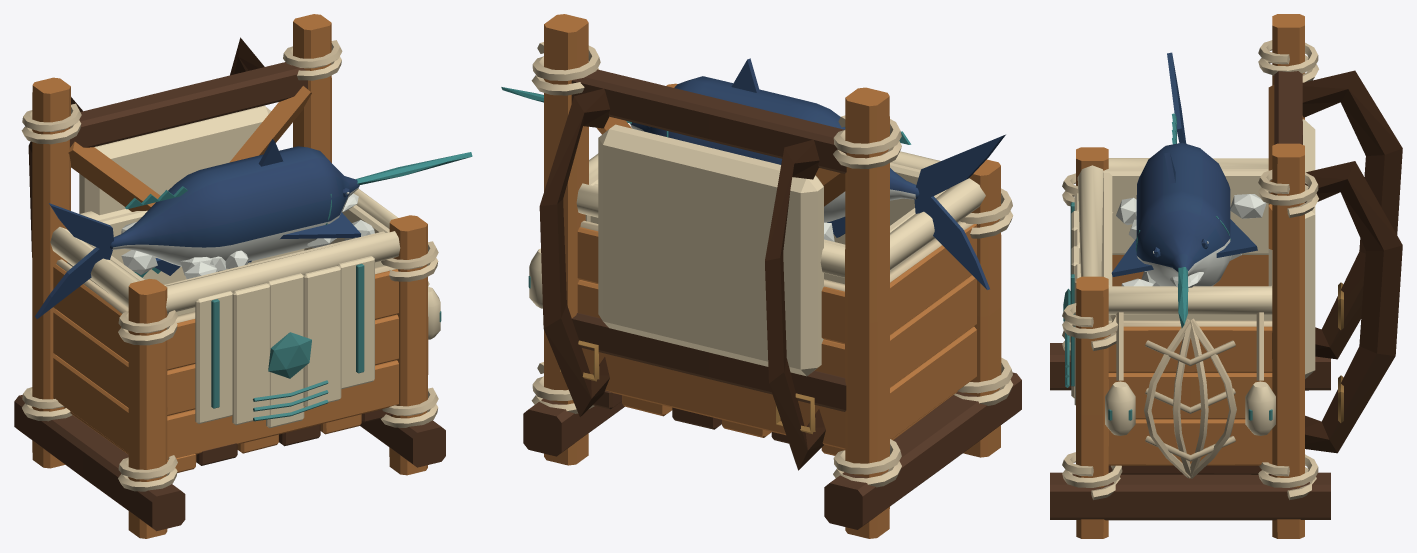
File: prop_trade_pack_blue_marlin_a.glb
3 renders of one model, left to right at view 1: azimuth 30°, elevation 25°; view 2: azimuth 150°, elevation 25°; view 3: azimuth 270°, elevation 25°, orthographic. The views are drawn at different scales.
Parts seen in each view (by area): view 1: prop_trade_pack_blue_marlin_a_LOD0; view 2: prop_trade_pack_blue_marlin_a_LOD0; view 3: prop_trade_pack_blue_marlin_a_LOD0.
Boxes of the visible parts, x1,y1,x2,y2 form: prop_trade_pack_blue_marlin_a_LOD0: (14, 14, 472, 538); prop_trade_pack_blue_marlin_a_LOD0: (501, 14, 1021, 538); prop_trade_pack_blue_marlin_a_LOD0: (1050, 14, 1402, 538).
Size of what is drawn, in the model's own units: 1.15 by 0.96 by 0.8041.
